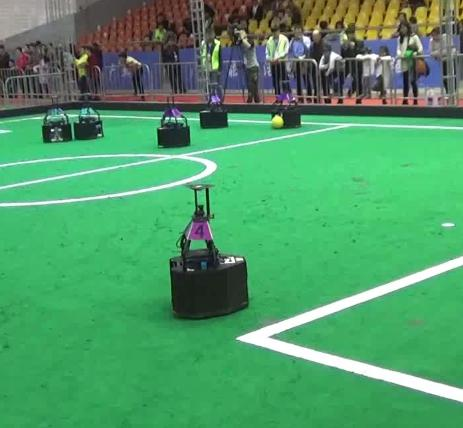robot: (159, 178, 259, 320), (150, 93, 194, 150)
